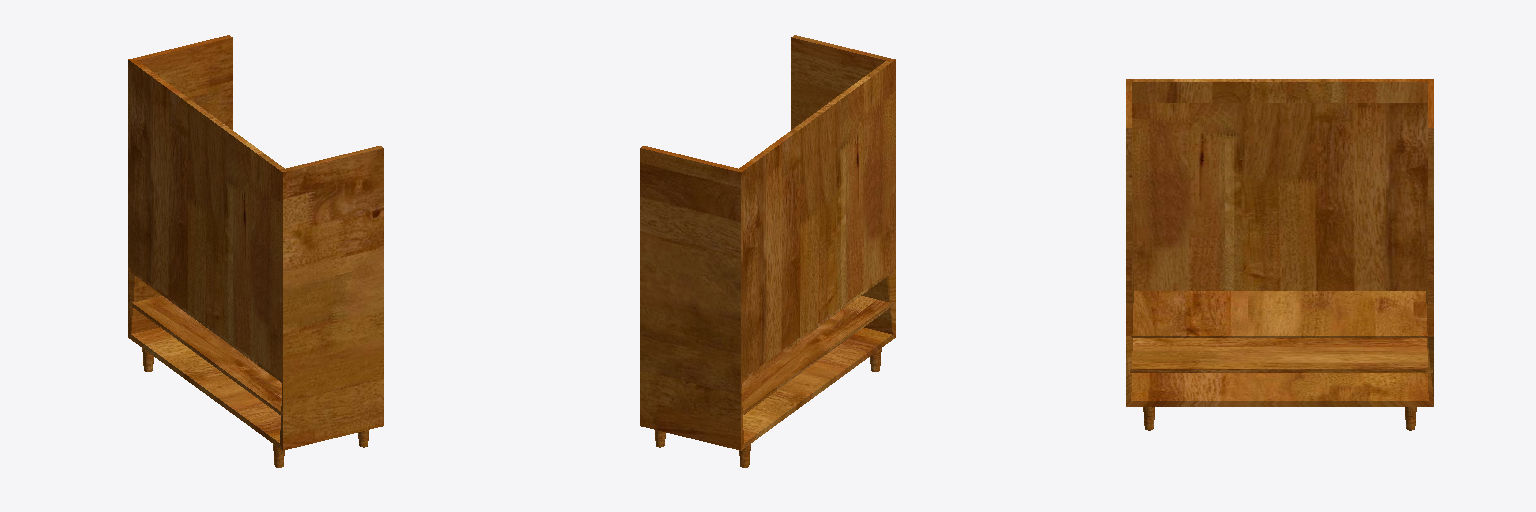
The picture shows the model from 3 angles: view 1: azimuth 30°, elevation 25°; view 2: azimuth 150°, elevation 25°; view 3: azimuth 270°, elevation 25°; orthographic projection.
Visible parts, largest first — view 1: Cube, Cube.001_Cube.009, Cylinder; view 2: Cube, Cube.001_Cube.009, Cylinder; view 3: Cube, Cube.001_Cube.009.
Part boxes in pixels (bbox=[...]): Cube: bbox=[128, 35, 383, 450]; Cube.001_Cube.009: bbox=[131, 296, 282, 416]; Cylinder: bbox=[142, 348, 368, 467]; Cube: bbox=[640, 35, 895, 450]; Cube.001_Cube.009: bbox=[742, 296, 893, 414]; Cylinder: bbox=[655, 348, 881, 467]; Cube: bbox=[1126, 79, 1433, 406]; Cube.001_Cube.009: bbox=[1130, 338, 1432, 372].
Bounding box in the file's own units: 3.19 × 9.21 × 8.47.
Materials: 1 (1 with a texture image).